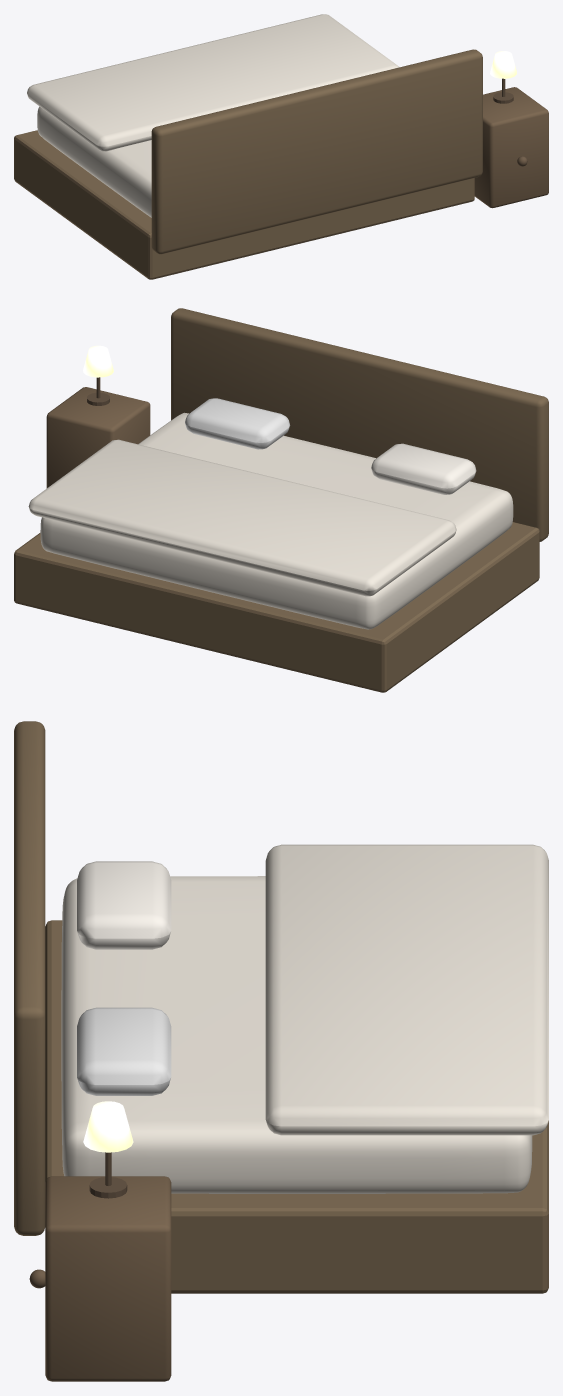
File: bedroom.glb
The picture shows the model from 3 angles, top to bottom: view 1: azimuth 30°, elevation 25°; view 2: azimuth 150°, elevation 25°; view 3: azimuth 270°, elevation 25°; orthographic projection. The views are drawn at different scales.
Visible parts, largest first — view 1: Headboard, Blanket, BedBase, Nightstand, Mattress, BedLampShade; view 2: Headboard, Blanket, BedBase, Mattress, Nightstand, Pillow.001, Pillow, BedLampShade; view 3: Blanket, Mattress, BedBase, Nightstand, Headboard, Pillow, Pillow.001, BedLampShade.
Part boxes in pixels (x1,y1,x2,y2): Headboard: (151,49,482,254); Blanket: (27,14,399,151); BedBase: (14,130,474,279); Nightstand: (474,87,548,208); Mattress: (37,106,151,217); BedLampShade: (490,51,516,78); Headboard: (171,308,548,541); Blanket: (28,439,456,596); BedBase: (14,522,539,692); Mattress: (40,412,513,629); Nightstand: (46,387,150,488); Pillow.001: (185,398,290,449); Pillow: (371,443,476,494); BedLampShade: (83,345,113,377); Blanket: (265,844,548,1135); Mattress: (61,876,532,1193); BedBase: (45,920,548,1293); Nightstand: (45,1176,171,1381); Headboard: (14,721,45,1235); Pillow: (77,861,171,949); Pillow.001: (77,1007,171,1095); BedLampShade: (83,1101,133,1152).
Size of the model in its own units: 2.7 by 1.08 by 1.7.
